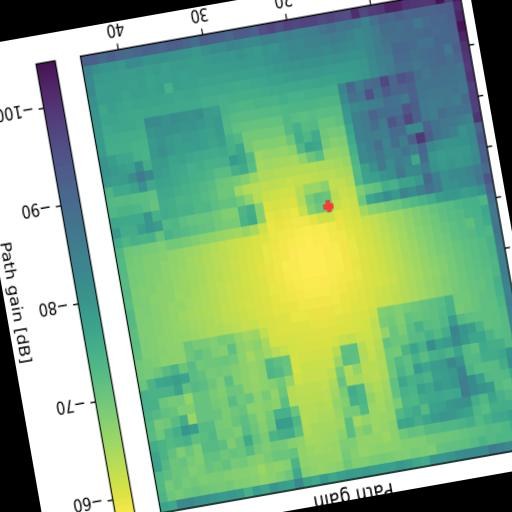Concrete: (182, 328, 282, 469)
Glass: (376, 294, 474, 430)
Metal: (142, 104, 240, 238)
Wood: (336, 70, 434, 206)
